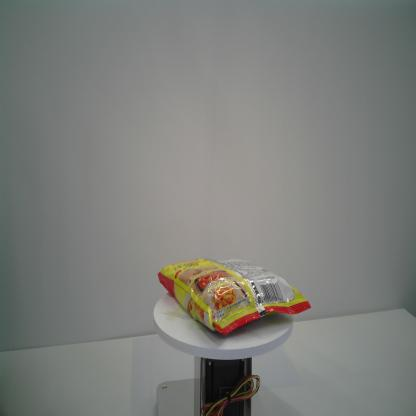Instant Noodles: (156, 257, 312, 336)
